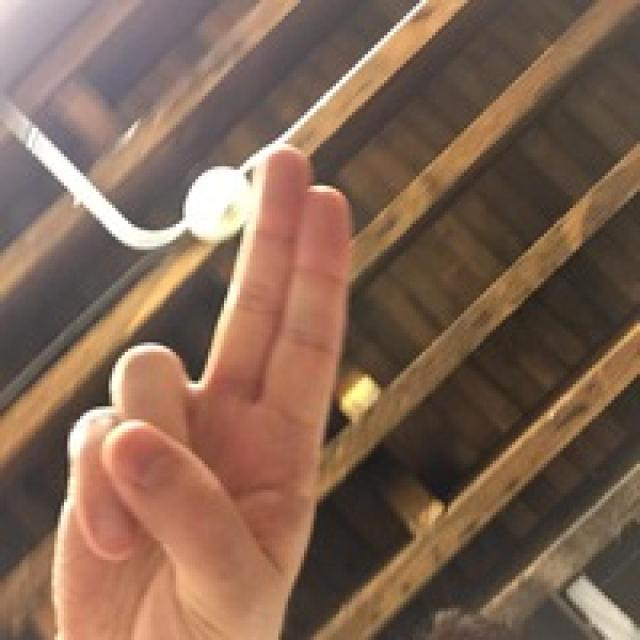U: (14, 85, 446, 640)
